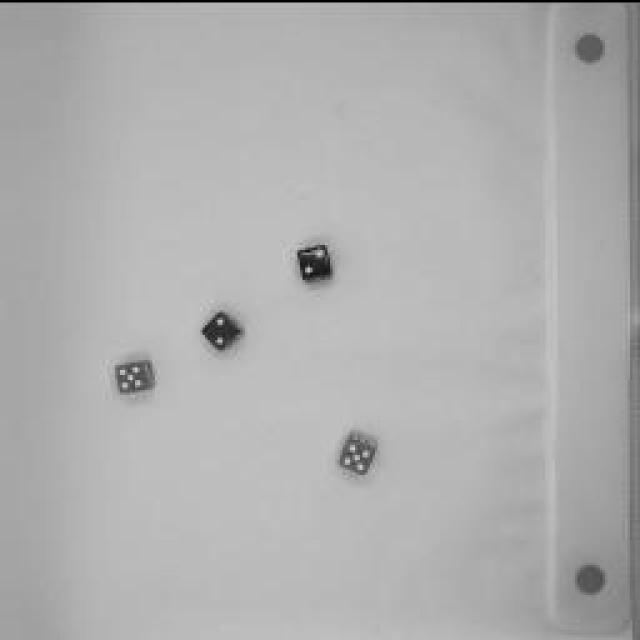dice_2: (198, 302, 248, 352), (288, 235, 338, 285)
dice_5: (108, 350, 162, 398), (334, 426, 381, 479)
